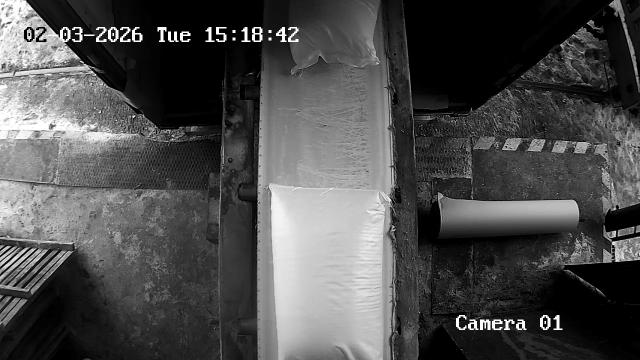bag: (271, 184, 392, 360), (289, 0, 382, 75)
